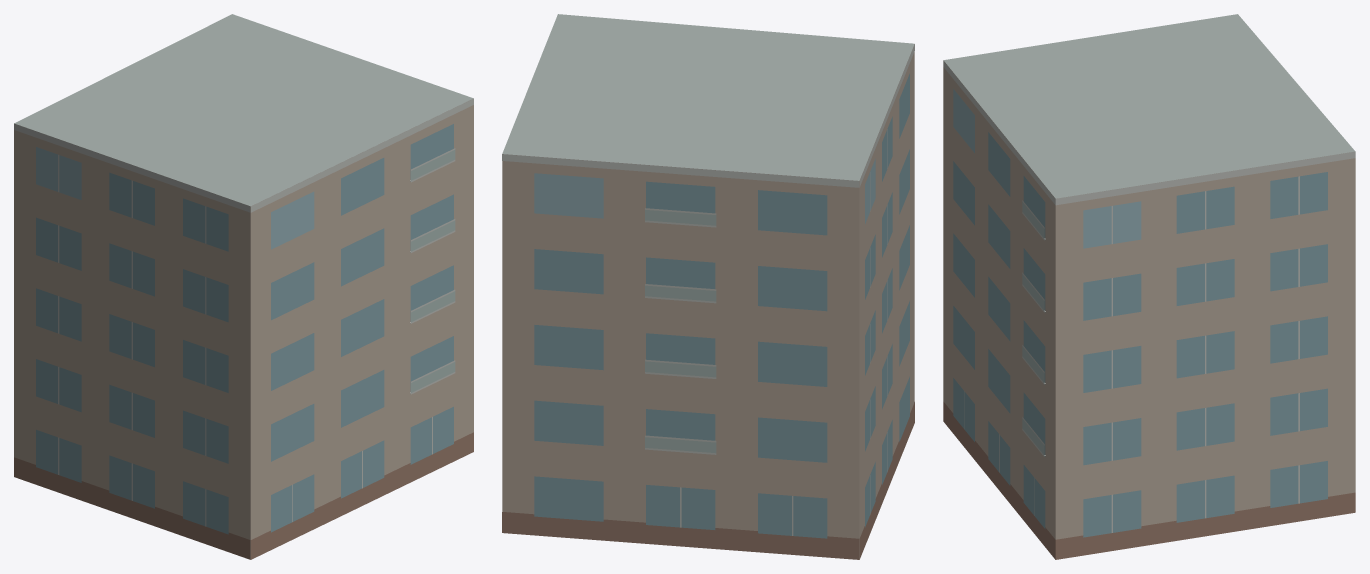
File: survey-upis-32865607.glb
3 renders of one model, left to right at view 1: azimuth 30°, elevation 25°; view 2: azimuth 150°, elevation 25°; view 3: azimuth 270°, elevation 25°, orthographic. The views are drawn at different scales.
Parts seen in each view (by area): view 1: survey-upis-32865607.tmp; view 2: survey-upis-32865607.tmp; view 3: survey-upis-32865607.tmp.
Part boxes in pixels (x1=…): survey-upis-32865607.tmp: x1=14, y1=14, x2=473, y2=559; survey-upis-32865607.tmp: x1=502, y1=14, x2=914, y2=559; survey-upis-32865607.tmp: x1=943, y1=14, x2=1355, y2=559.
Bounding box in the file's own units: 14.65 × 13.35 × 13.82.
